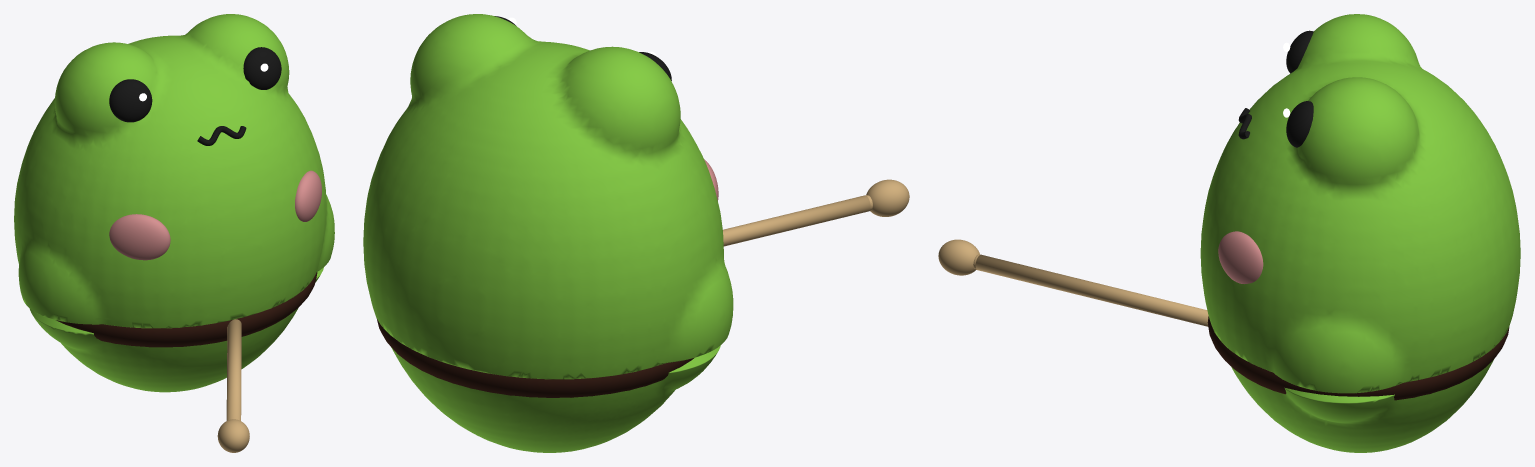
Rendered from frog_muyu.glb.
The picture shows the model from 3 angles, left to right: view 1: azimuth 30°, elevation 25°; view 2: azimuth 150°, elevation 25°; view 3: azimuth 270°, elevation 25°; orthographic projection. The views are drawn at different scales.
Parts seen in each view (by area): view 1: Frog_Head, Frog_Jaw, Mouth_Interior, Blush_L, Striker_Handle, Eye_L, Eye_R, Blush_R, Striker_Head, Nose; view 2: Frog_Head, Frog_Jaw, Mouth_Interior, Striker_Handle, Striker_Head; view 3: Frog_Head, Frog_Jaw, Striker_Handle, Mouth_Interior, Blush_R, Striker_Head, Eye_R, Eye_L.
Part boxes in pixels (box(x1,y1,x2,y2)): Frog_Head: box(14, 14, 334, 328); Frog_Jaw: box(29, 267, 323, 392); Mouth_Interior: box(56, 272, 317, 347); Blush_L: box(109, 214, 170, 260); Striker_Handle: box(226, 319, 241, 420); Eye_L: box(109, 79, 152, 122); Eye_R: box(243, 47, 281, 89); Blush_R: box(295, 170, 321, 221); Striker_Head: box(217, 419, 249, 452); Nose: box(197, 126, 246, 145); Frog_Head: box(363, 14, 733, 379); Frog_Jaw: box(391, 345, 720, 452); Mouth_Interior: box(376, 318, 693, 397); Striker_Handle: box(723, 195, 870, 246); Striker_Head: box(866, 179, 909, 216); Frog_Head: box(1200, 14, 1520, 393); Frog_Jaw: box(1231, 359, 1493, 452); Striker_Handle: box(975, 254, 1208, 326); Mouth_Interior: box(1207, 316, 1509, 400); Blush_R: box(1218, 231, 1263, 283); Striker_Head: box(938, 239, 979, 275); Eye_R: box(1286, 101, 1313, 147); Eye_L: box(1286, 30, 1313, 73).
Bounding box in the file's own units: 2.14 × 2.4 × 3.27.
